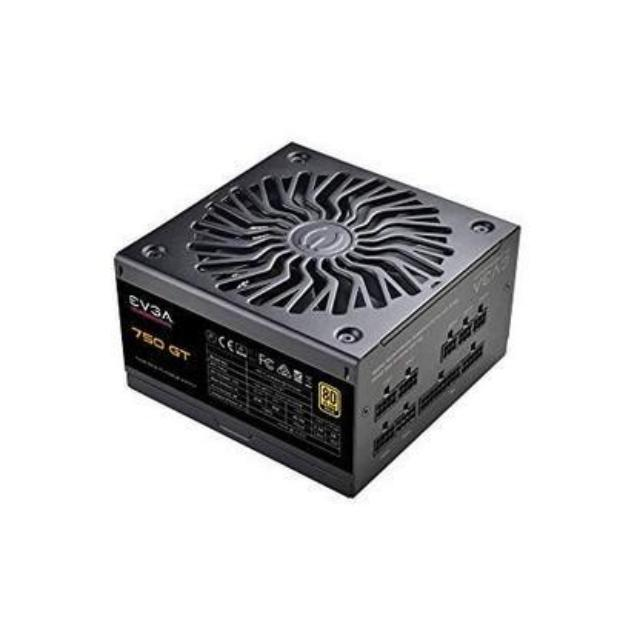PSU: (107, 130, 533, 510)
